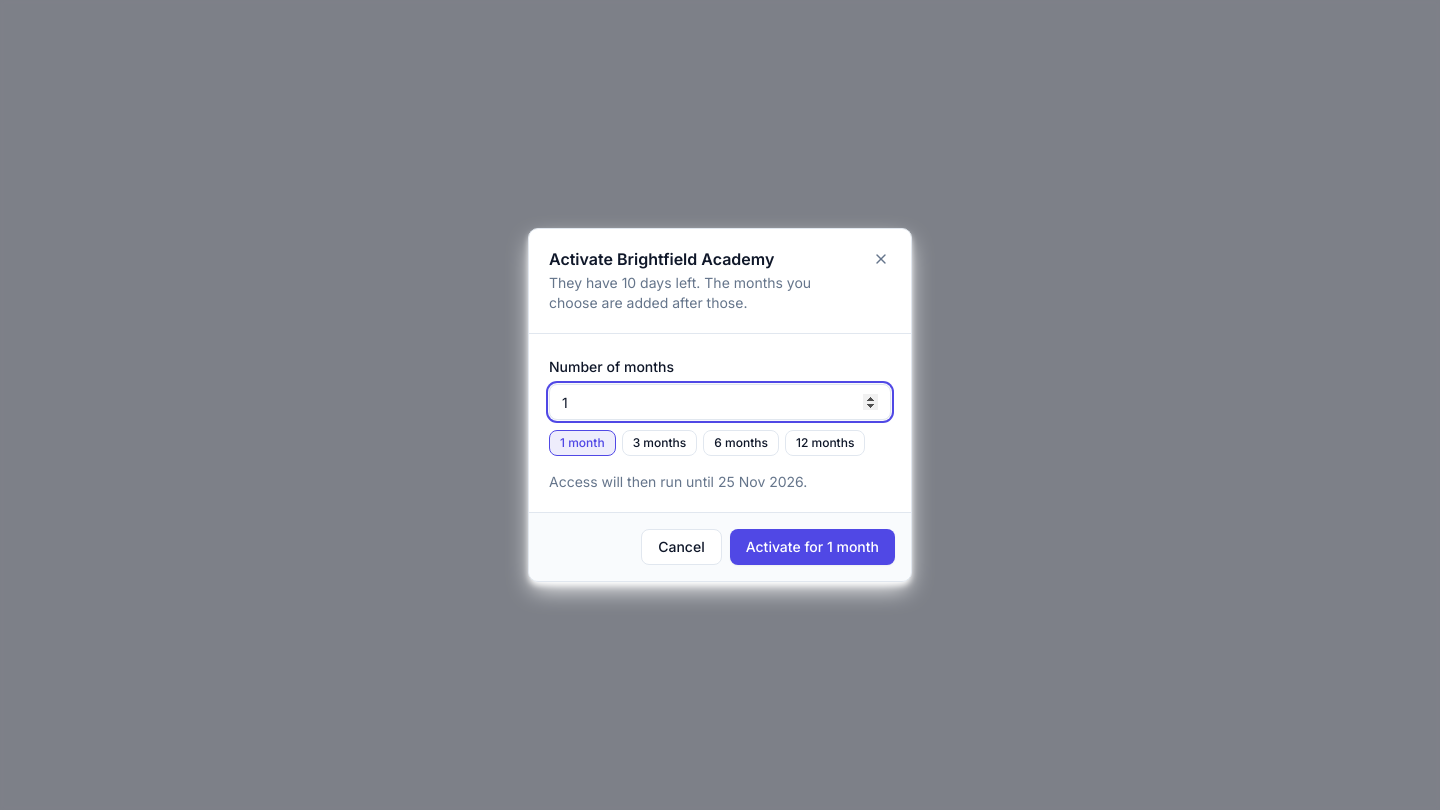
Test case: ActivateSchoolDialog › picks a common length with one click
Click the button "6 months": (741, 443) [703,430,779,456]
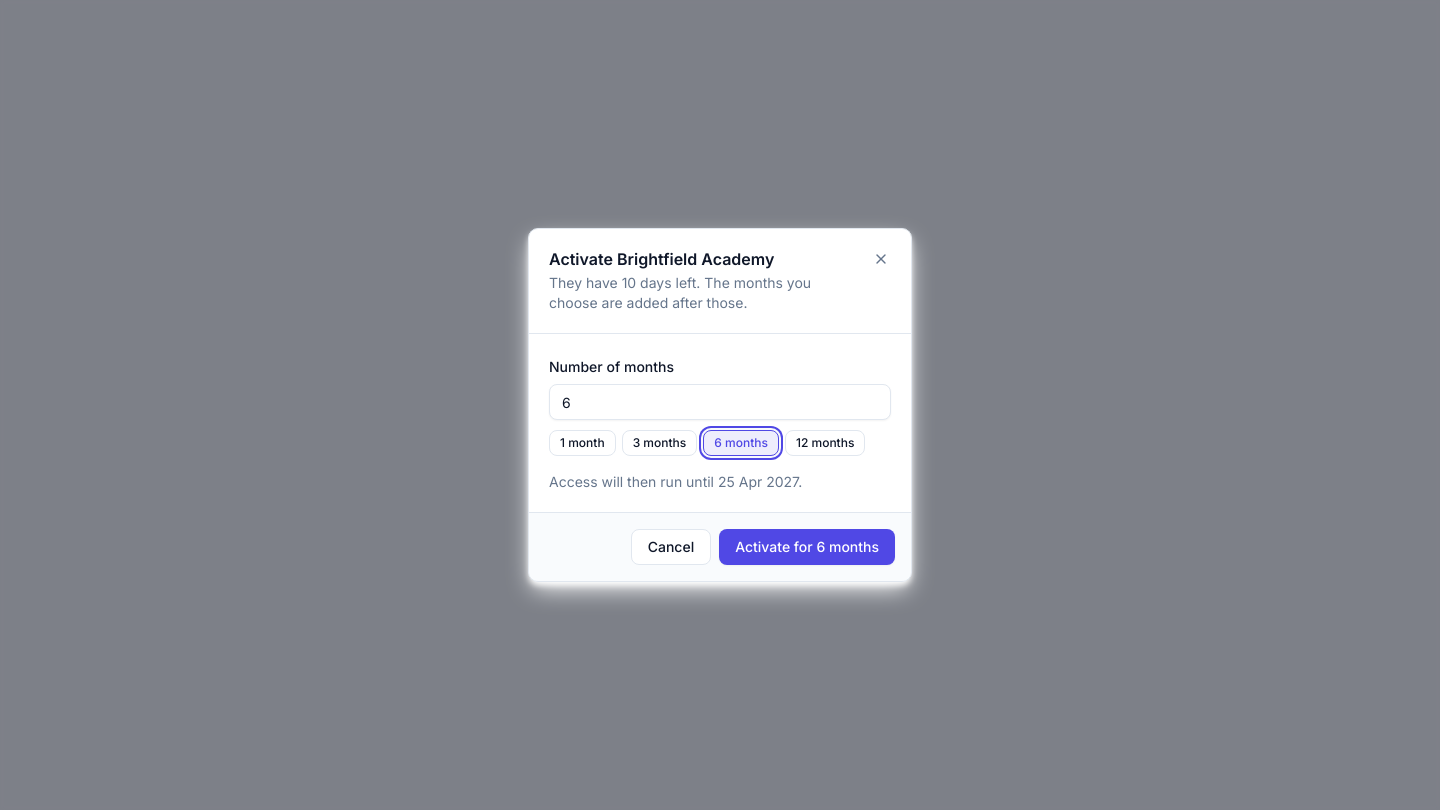
Expected: the number field labelled "Number of months" holds "6", [549,384,891,420]
Expected: the button "Activate for 6 months" is shown, [719,529,895,565]
